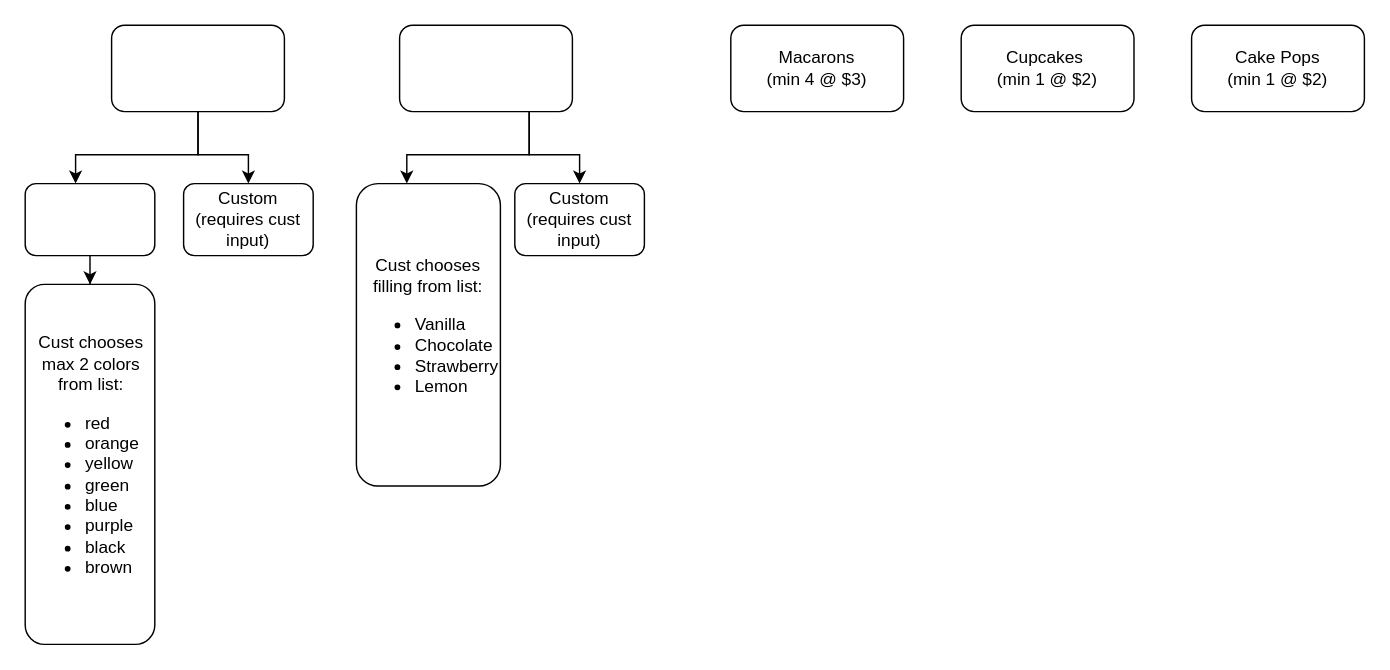
Image size: 1390x670. Some labels were removed from this diagram. Each missing label, with the centre of its shape:
Cream Puffs (min 4 @ $3): pixel 485 68
Iced Sugar Cookies (min 2 @ $1): pixel 197 68
Marbled (max 2 colors): pixel 89 219
